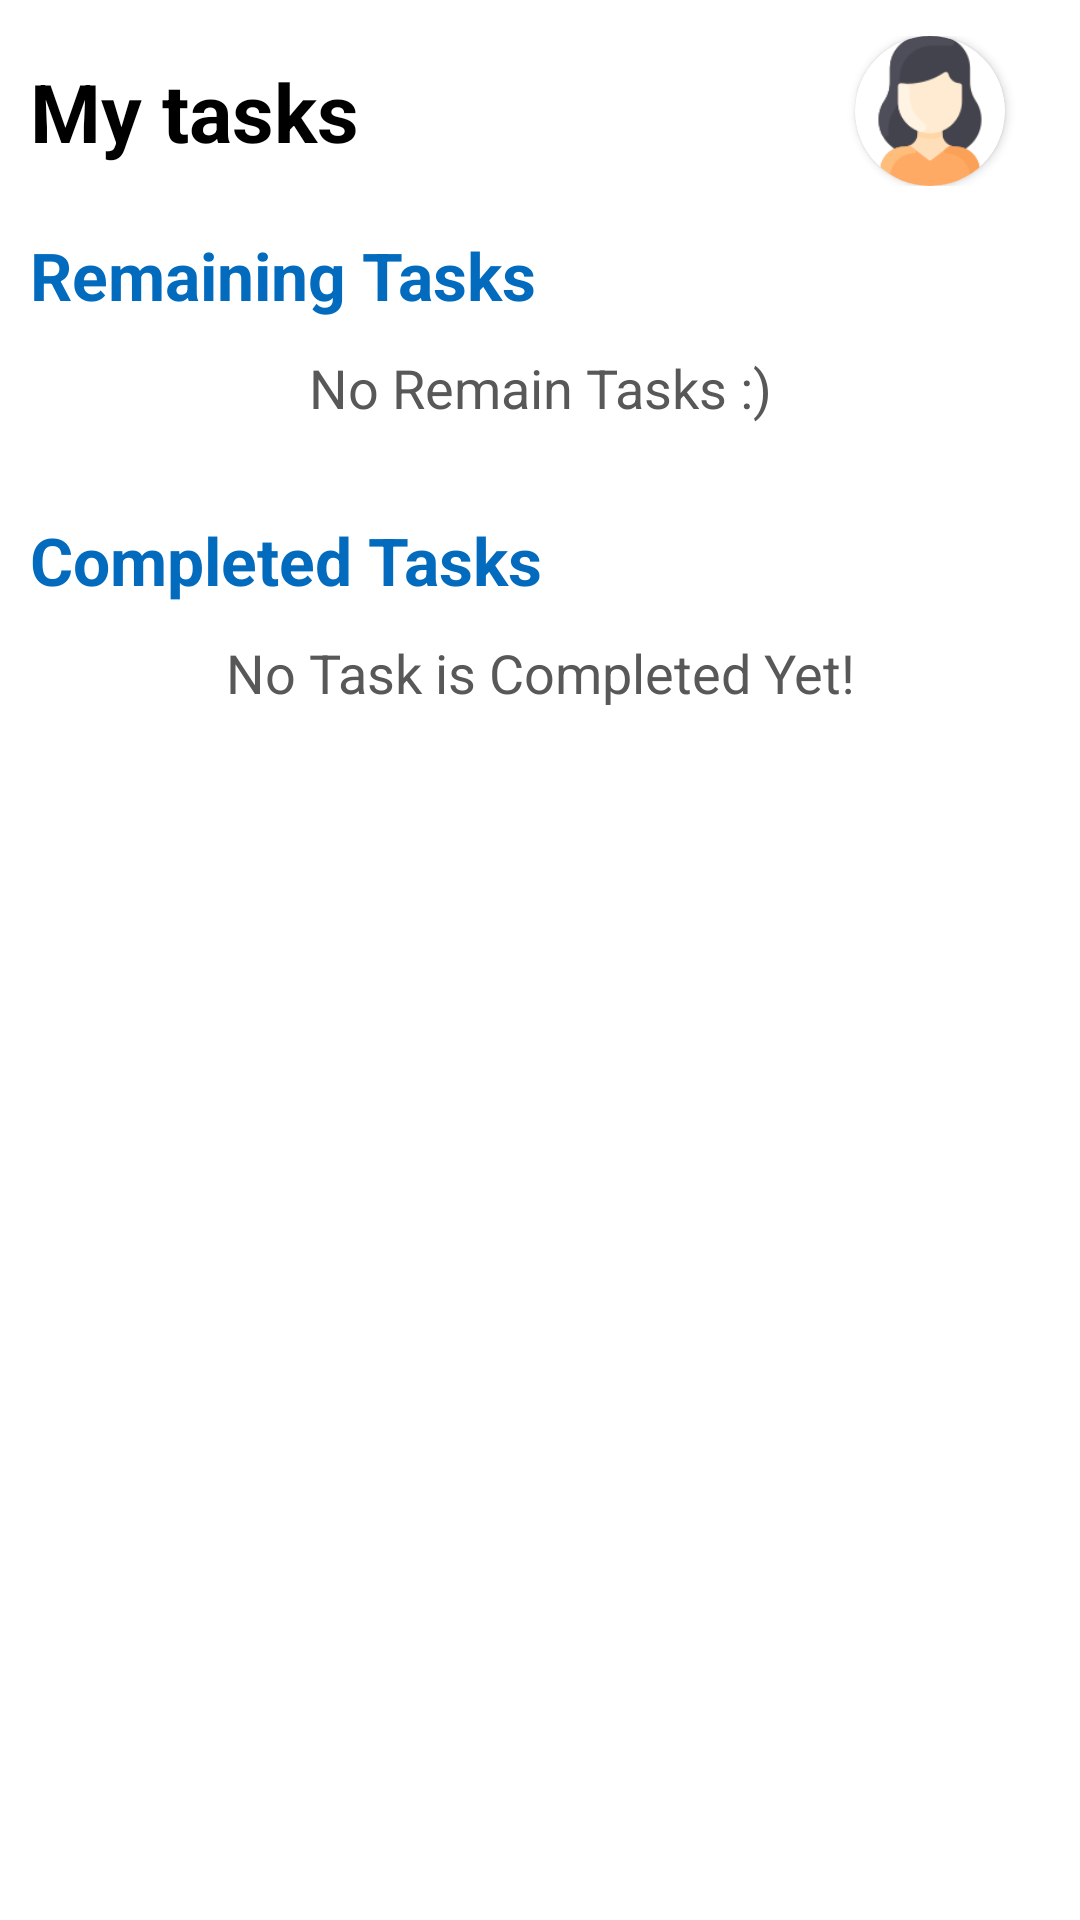

Icons on this 1080*1920 Android screen, each with the point to tap as [x,y]:
profileperson: [941,111]
